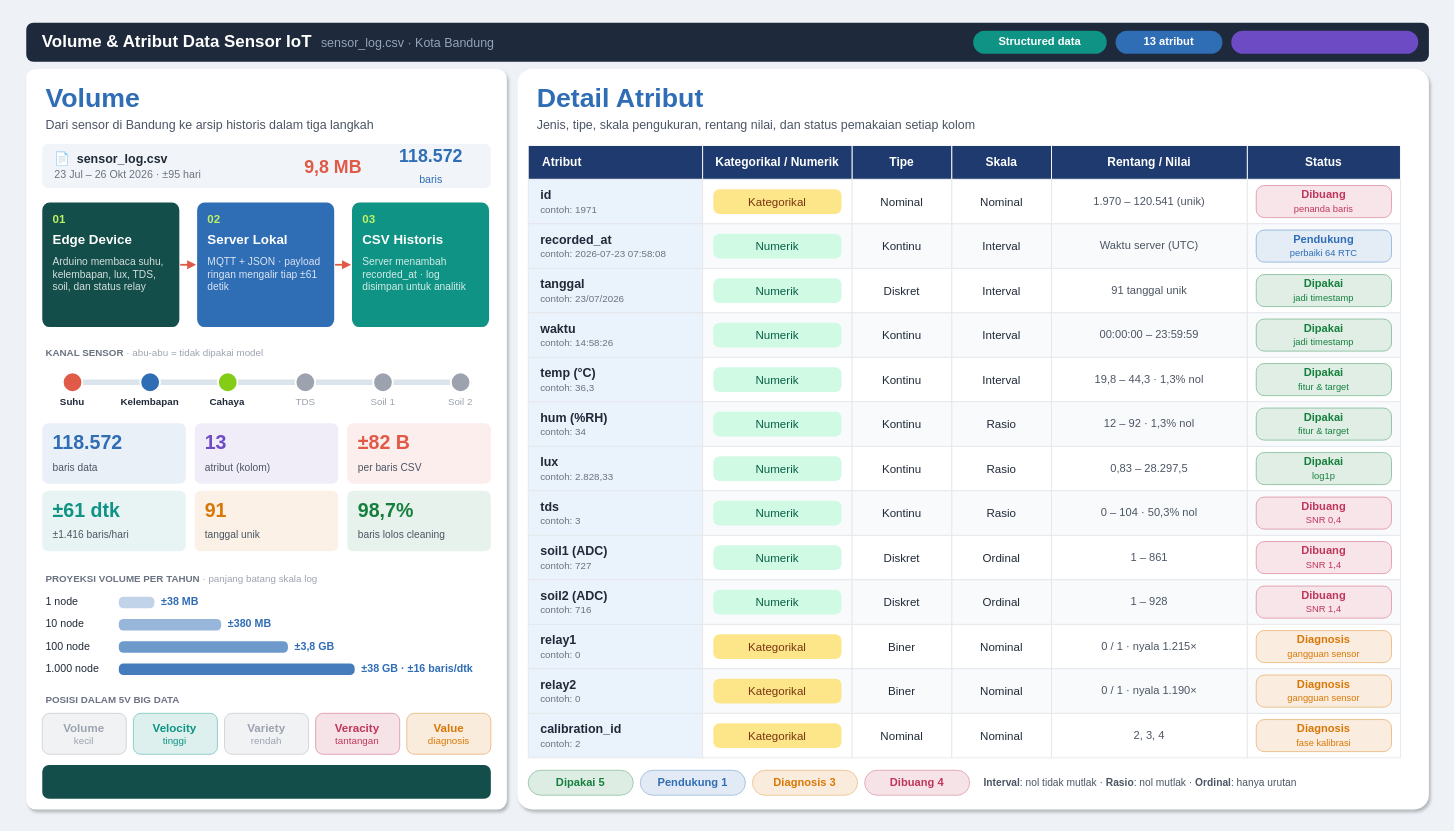
Image size: 1454x831. Some labels were removed from this diagram. Here are the shapes that lost their labels. From the top down, the centre of each, then its label:
At [1324,41]: "4 kategorikal · 9 numerik".
At [266,781]: "Operasional bersifat streaming · analisis memakai arsip CSV statis".
